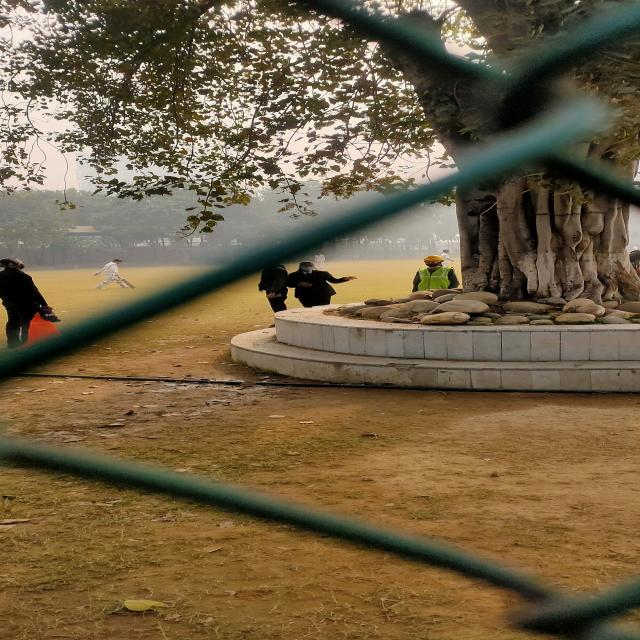safe: (414, 256, 460, 293)
unsafe: (0, 255, 61, 348), (293, 260, 342, 304)
